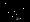person: (15, 9, 24, 20)
